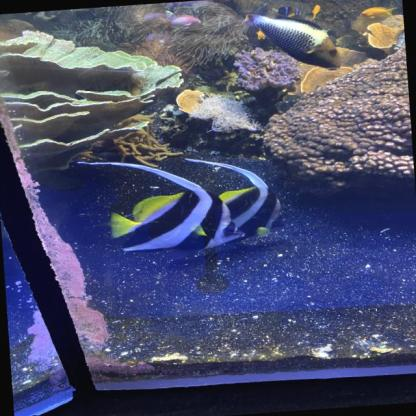fish: (108, 189, 247, 257), (241, 6, 343, 76), (186, 185, 284, 243), (162, 12, 201, 28), (359, 5, 397, 18), (392, 23, 405, 48)
